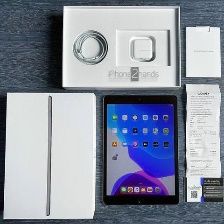book: (2, 89, 97, 222), (59, 1, 183, 93), (183, 82, 224, 205), (184, 23, 222, 79)
phone: (100, 93, 181, 206)
